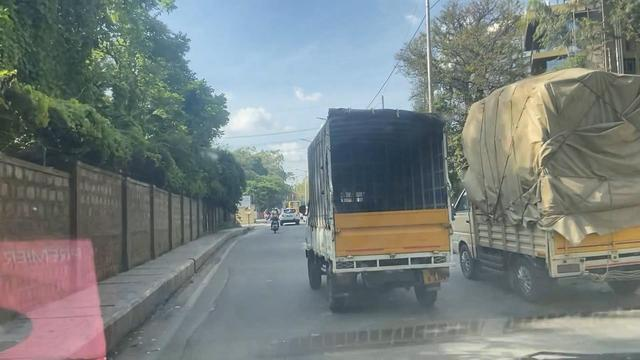HMV: (288, 65, 476, 332), (453, 65, 640, 309)
